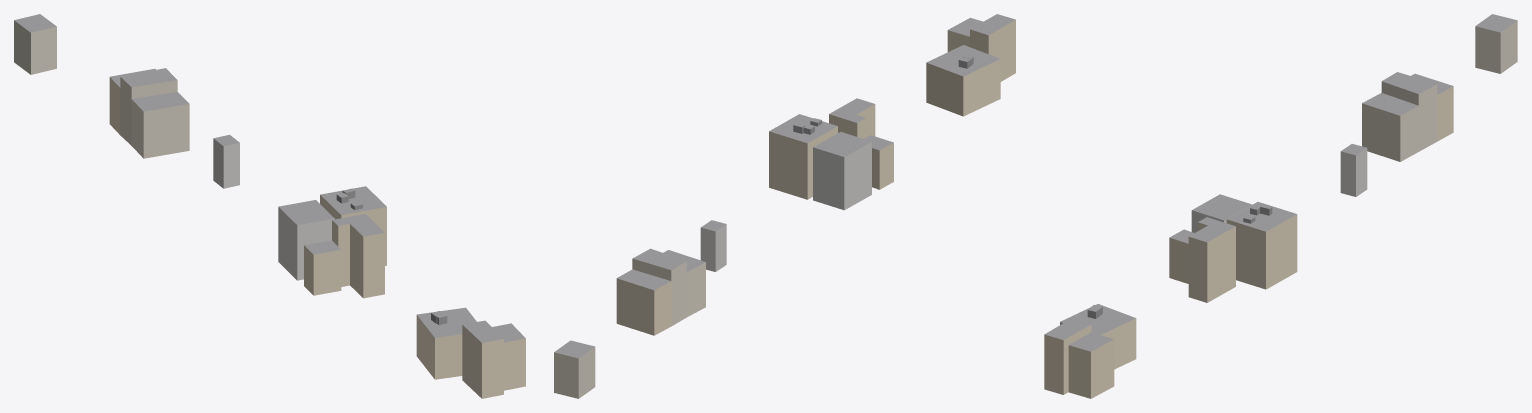
The model's file is building_5_-3.glb.
3 renders of one model, left to right at view 1: azimuth 30°, elevation 25°; view 2: azimuth 150°, elevation 25°; view 3: azimuth 330°, elevation 25°, orthographic. The views are drawn at different scales.
Visible parts, largest first — view 1: sandstone, roof, concrete_warm, concrete_light; view 2: sandstone, roof, concrete_light, concrete_warm; view 3: sandstone, roof, concrete_warm, concrete_light.
Part boxes in pixels (left/top/right/bottom): sandstone: left=109, top=77, right=525, bottom=398; roof: left=14, top=14, right=525, bottom=342; concrete_warm: left=14, top=20, right=189, bottom=158; concrete_light: left=213, top=138, right=334, bottom=280; sandstone: left=616, top=20, right=1015, bottom=335; roof: left=554, top=14, right=1015, bottom=358; concrete_light: left=700, top=142, right=871, bottom=271; concrete_warm: left=554, top=258, right=705, bottom=398; sandstone: left=1044, top=86, right=1453, bottom=398; roof: left=1044, top=14, right=1517, bottom=351; concrete_warm: left=1362, top=20, right=1517, bottom=161; concrete_light: left=1191, top=148, right=1367, bottom=232.
Size of the model in its own units: 23.53 by 16.18 by 207.
